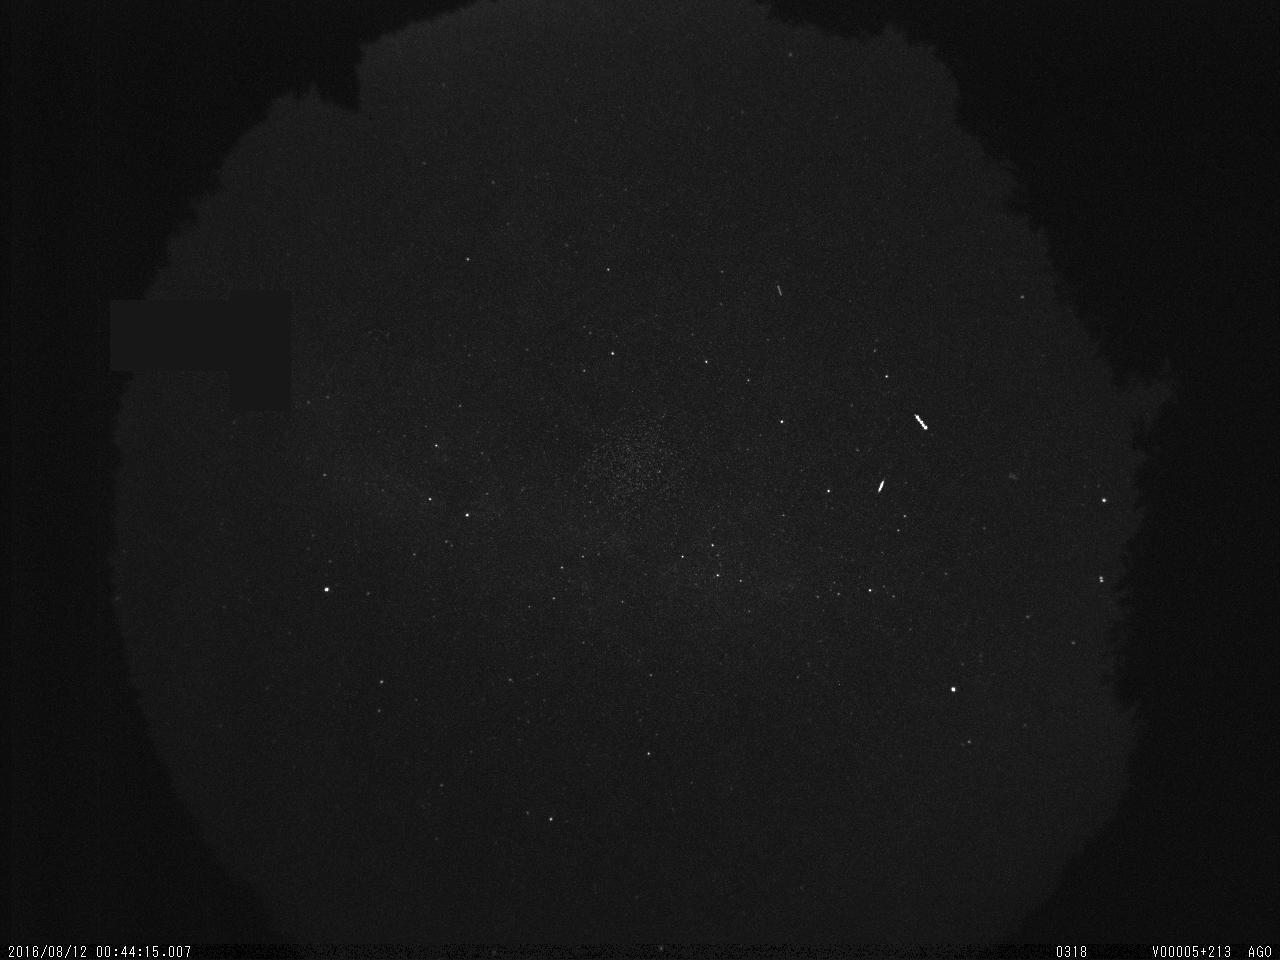meteor: (875, 476, 889, 497)
satelite: (910, 406, 931, 439)
